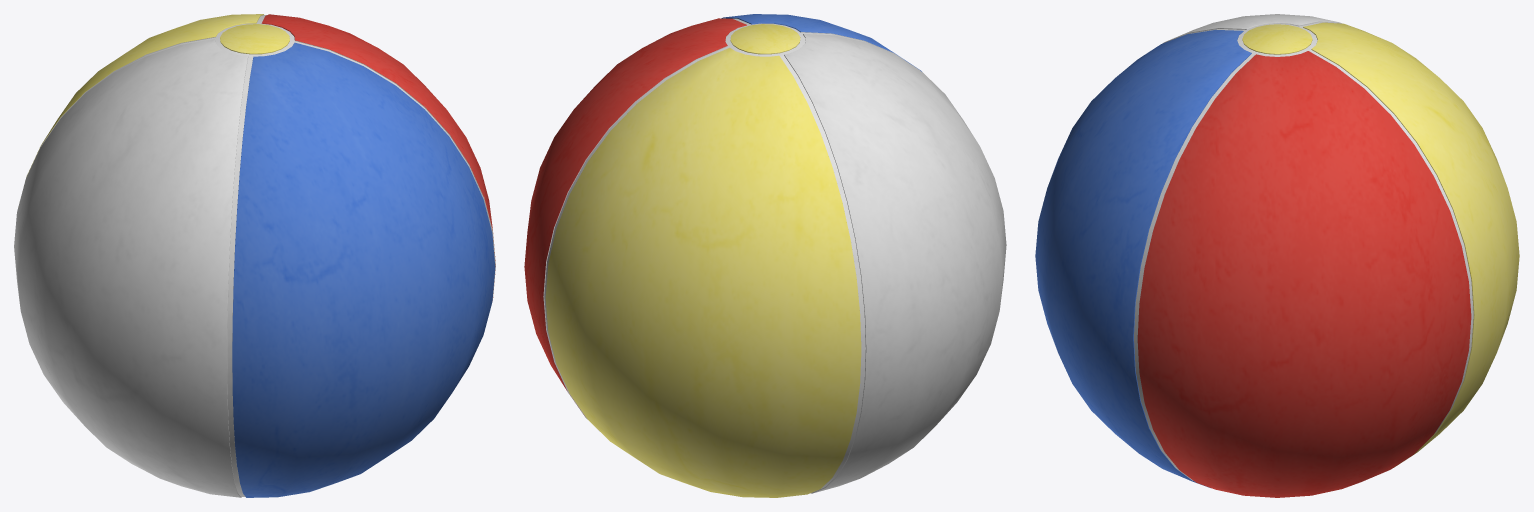
The model's file is SF_Ball.fbx.
The picture shows the model from 3 angles, left to right: view 1: azimuth 30°, elevation 25°; view 2: azimuth 150°, elevation 25°; view 3: azimuth 270°, elevation 25°; orthographic projection.
Visible parts, largest first — view 1: pSphere1; view 2: pSphere1; view 3: pSphere1.
Boxes of the visible parts, <box> form: pSphere1: <box>14,14,495,497</box>; pSphere1: <box>524,14,1006,497</box>; pSphere1: <box>1035,14,1519,497</box>.
Bounding box in the file's own units: 100 × 100 × 100.
